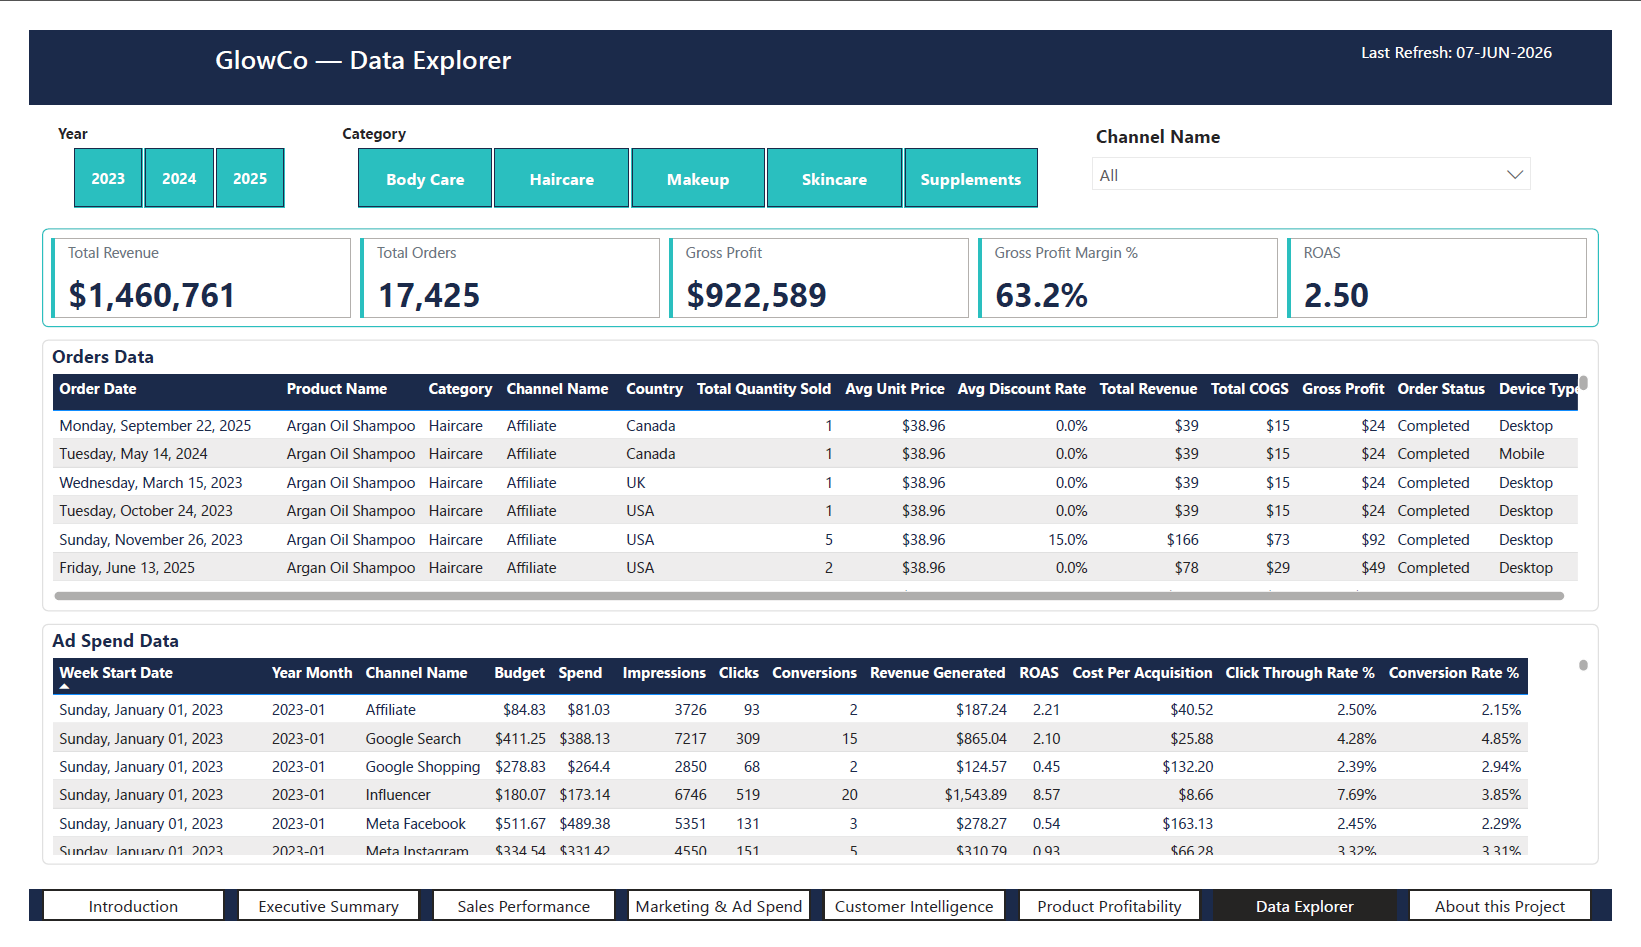

The dashboard page shown, as its layout file describes it:
{"tool":"powerbi","page":{"name":"Data Explorer","canvas":[1280,720],"ordinal":6},"visuals":[{"type":"shape","box":[0,0,1280,60],"z":0},{"type":"textbox","box":[20,3.3,500,40],"z":1000},{"type":"textbox","box":[1050,3.3,210,40],"z":2000},{"type":"slicer","fields":{"Values":["dim_Date.Year"]},"box":[10,70,220,80],"z":3000},{"type":"slicer","fields":{"Values":["dim_Products.Category"]},"box":[240,70,600,80],"z":4000},{"type":"slicer","fields":{"Values":["dim_Channels.ChannelName"]},"box":[850,70,375,80.5],"z":5000},{"type":"cardVisual","fields":{"Data":["_Measures.Total Revenue","_Measures.Total Orders","_Measures.Gross Profit","_Measures.Gross Profit Margin %","_Measures.ROAS"]},"box":[10.3,160,1260,80],"z":6000},{"type":"tableEx","title":"Orders Data","fields":{"Values":["fact_Orders.OrderDate","dim_Products.ProductName","dim_Products.Category","dim_Channels.ChannelName","dim_Customers.Country","_Measures.Total Quantity Sold","_Measures.Avg Unit Price","_Measures.Avg Discount Rate","_Measures.Total Revenue","_Measures.Total COGS","_Measures.Gross Profit","fact_Orders.OrderStatus"]},"box":[10,250,1260,220],"z":7000},{"type":"tableEx","title":"Ad Spend Data","fields":{"Values":["fact_Adspend.WeekStartDate","fact_Adspend.YearMonth","dim_Channels.ChannelName","Sum(fact_Adspend.Budget)","Sum(fact_Adspend.Spend)","Sum(fact_Adspend.Impressions)","Sum(fact_Adspend.Clicks)","Sum(fact_Adspend.Conversions)","Sum(fact_Adspend.RevenueGenerated)","Sum(fact_Adspend.ROAS)","_Measures.Cost Per Acquisition","_Measures.Click Through Rate %"]},"box":[10,480,1260,195],"z":8000},{"type":"shape","box":[0,695,1280,25],"z":9000},{"type":"pageNavigator","box":[10,695,1260,25],"z":10000}]}

Visuals, with their boxes on the page's 1280x720 design canvas (x1, y1, x2, y2). These are canvas units, not pixel positions in the 1641x947 screenshot, which may show the page scaled, cropped or inside an application window:
shape: <box>0,0,1280,60</box>
textbox: <box>20,3,520,43</box>
textbox: <box>1050,3,1260,43</box>
slicer - dim_Date.Year: <box>10,70,230,150</box>
slicer - dim_Products.Category: <box>240,70,840,150</box>
slicer - dim_Channels.ChannelName: <box>850,70,1225,150</box>
cardVisual - _Measures.Total Revenue x _Measures.Total Orders: <box>10,160,1270,240</box>
"Orders Data" tableEx: <box>10,250,1270,470</box>
"Ad Spend Data" tableEx: <box>10,480,1270,675</box>
shape: <box>0,695,1280,720</box>
pageNavigator: <box>10,695,1270,720</box>
